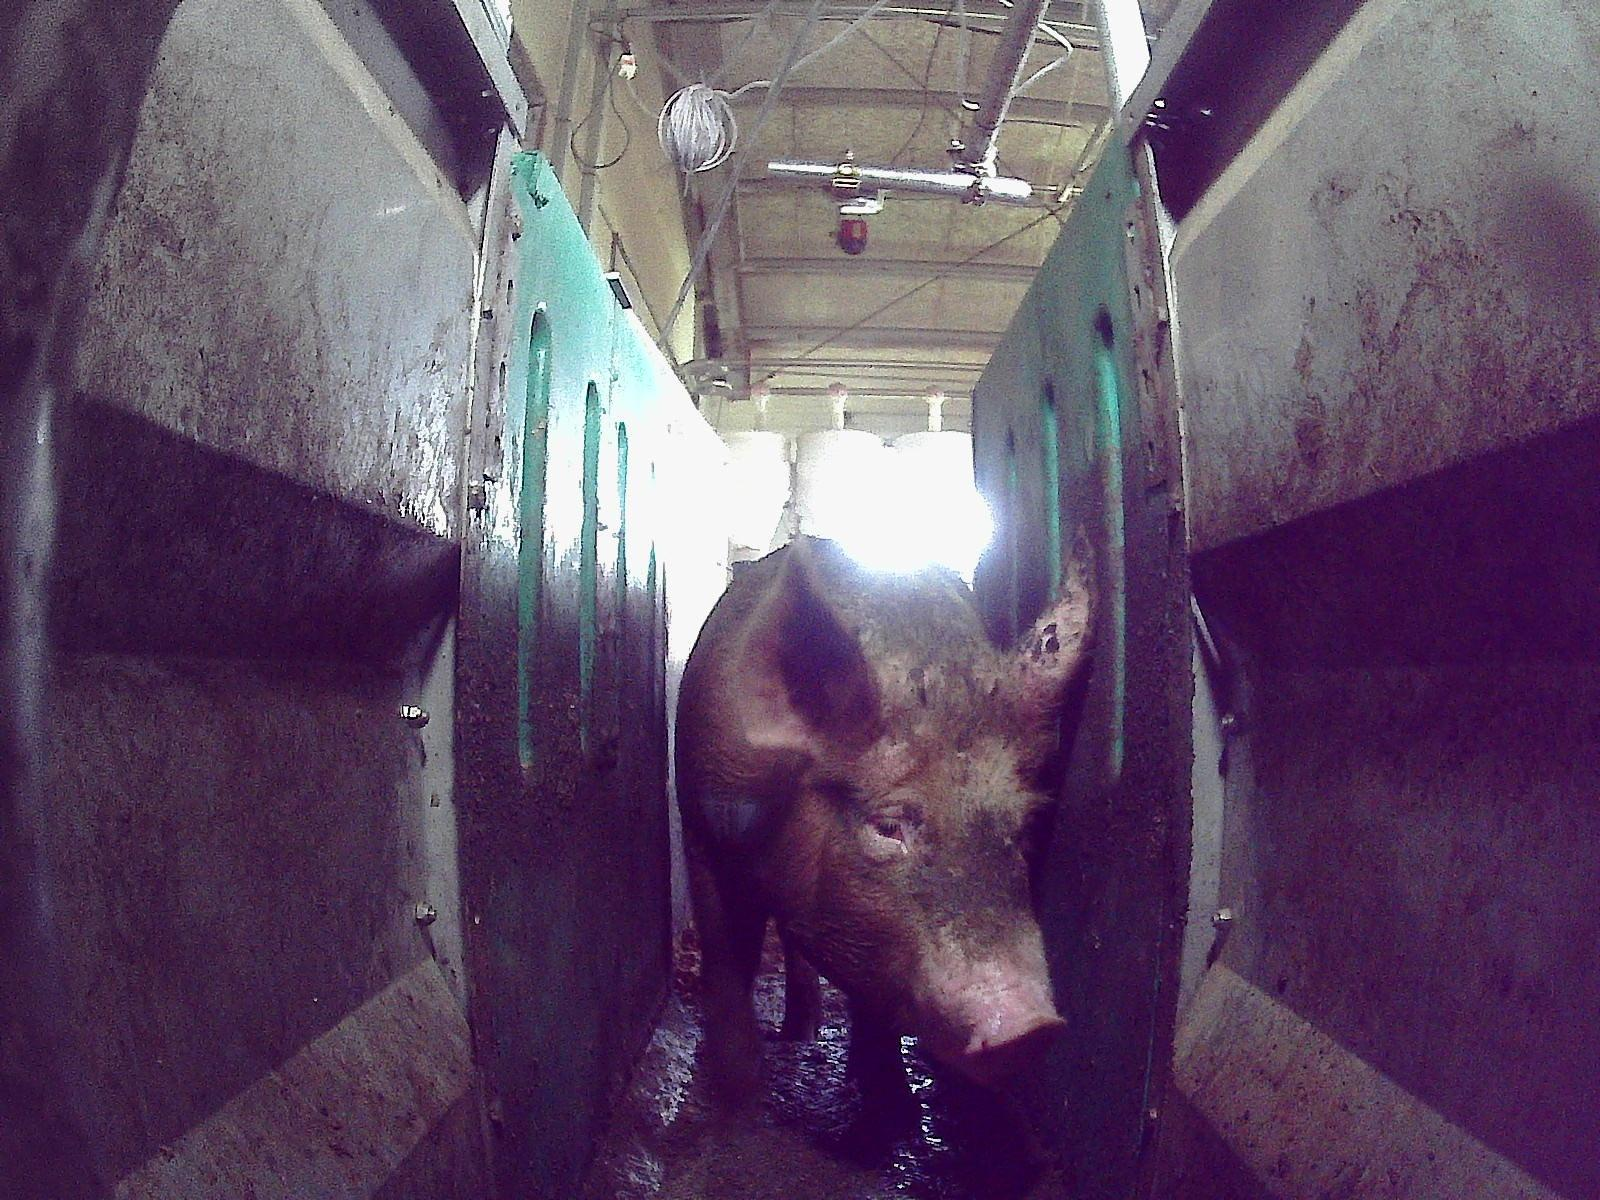Face: (799, 662, 1065, 1081)
